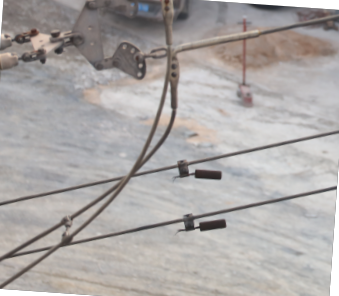damper_defect: (169, 158, 224, 182), (171, 212, 228, 235)
